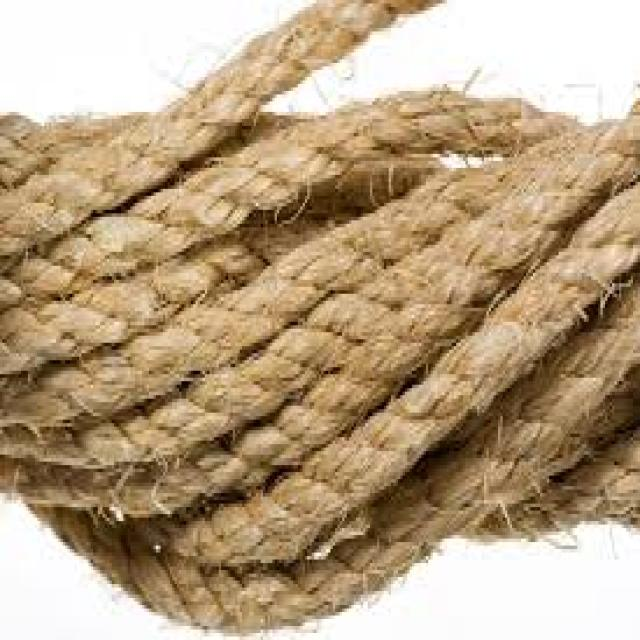rope: (0, 4, 640, 628)
